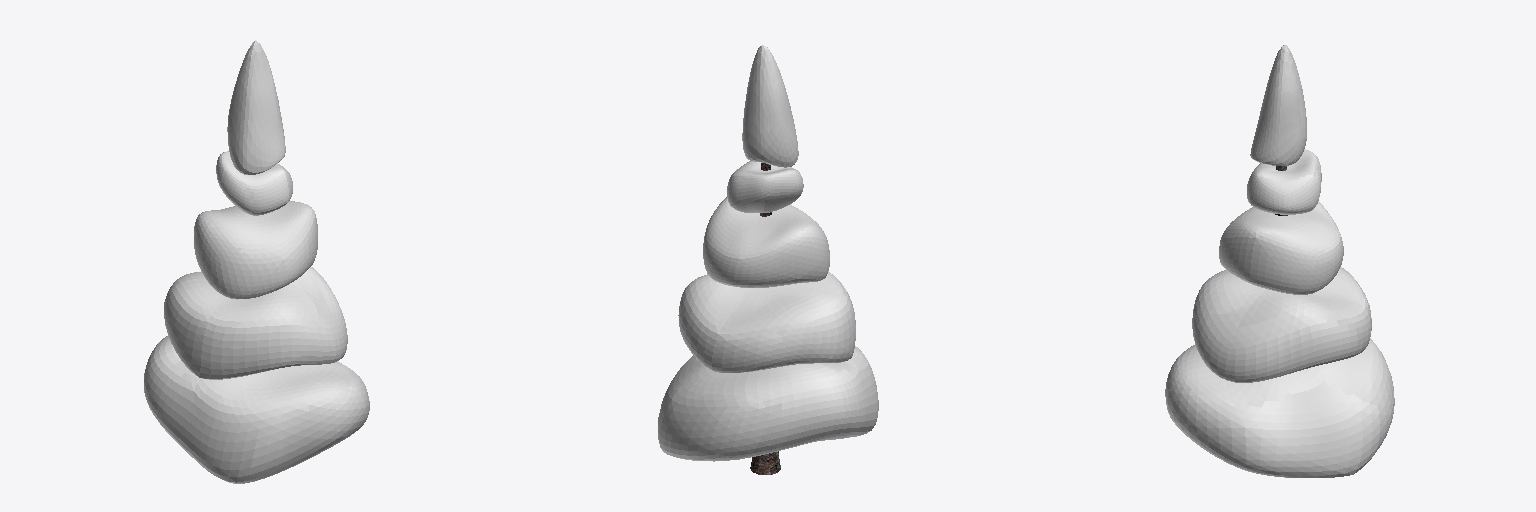
3 views of the same model, side by side, from view 1: azimuth 30°, elevation 25°; view 2: azimuth 150°, elevation 25°; view 3: azimuth 270°, elevation 25° (orthographic).
Parts seen in each view (by area): view 1: arbol_1; view 2: arbol_1; view 3: arbol_1.
Boxes of the visible parts, <box> form: arbol_1: <box>144,40,369,483</box>; arbol_1: <box>658,45,878,474</box>; arbol_1: <box>1165,45,1394,477</box>.
Bounding box in the file's own units: 2.03 × 4.31 × 2.11.
1 materials, 1 textured.